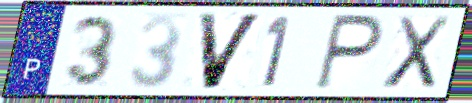1: (261, 14, 292, 90)
3: (128, 12, 186, 90), (63, 14, 122, 88)
P: (311, 12, 386, 93)
V: (195, 11, 267, 92)
X: (378, 14, 454, 92)
